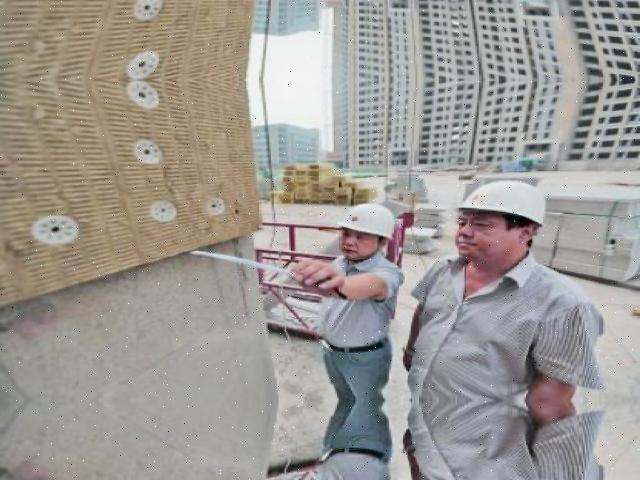Helmet: (450, 177, 552, 236), (337, 197, 401, 245)
